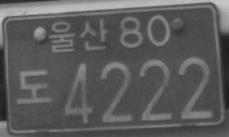0: (146, 13, 170, 47)
2: (178, 55, 213, 119), (140, 58, 173, 121), (100, 60, 132, 123)
4: (64, 62, 94, 124)
8: (119, 15, 143, 48)
도: (16, 69, 51, 105)
울산_O: (48, 16, 108, 53)
